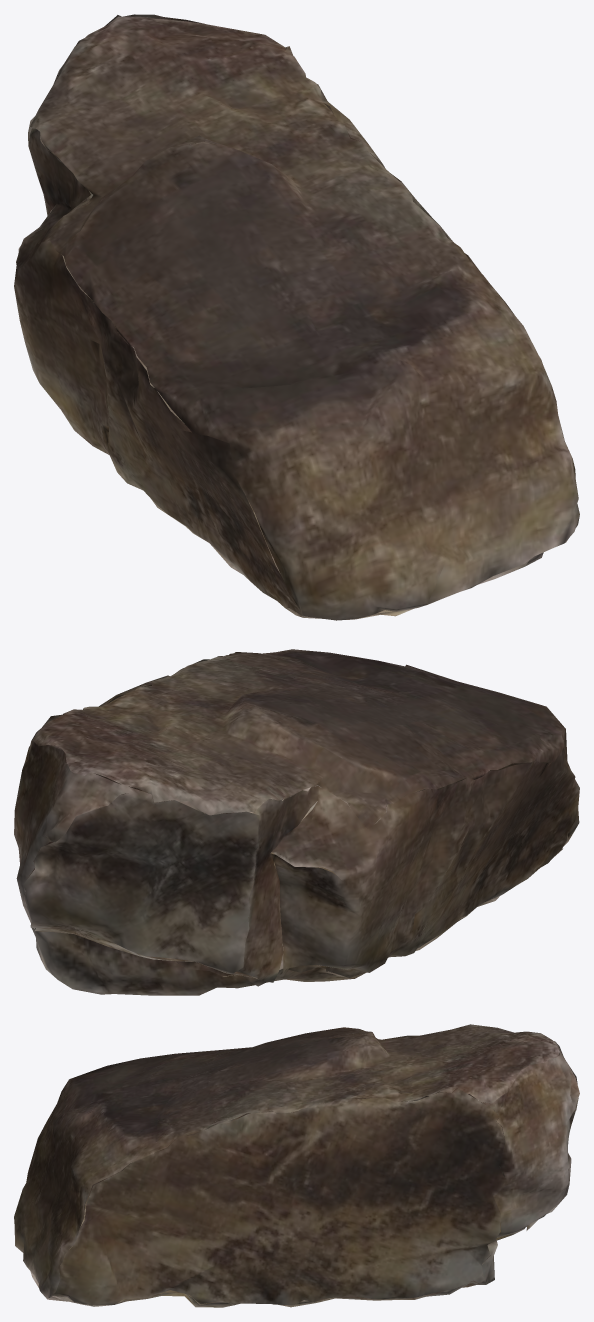
Rendered from weathered-rock-a.glb.
The picture shows the model from 3 angles, top to bottom: view 1: azimuth 30°, elevation 25°; view 2: azimuth 150°, elevation 25°; view 3: azimuth 270°, elevation 25°; orthographic projection. The views are drawn at different scales.
Parts seen in each view (by area): view 1: SM_Rock_Weathered_A_LOD0; view 2: SM_Rock_Weathered_A_LOD0; view 3: SM_Rock_Weathered_A_LOD0.
Part boxes in pixels (left/top/right/bottom): SM_Rock_Weathered_A_LOD0: left=14, top=14, right=579, bottom=620; SM_Rock_Weathered_A_LOD0: left=14, top=649, right=579, bottom=995; SM_Rock_Weathered_A_LOD0: left=14, top=1024, right=579, bottom=1307.
Size of what is drawn, in the model's own units: 1.02 by 0.8691 by 1.95.
1 material, 1 textured.
